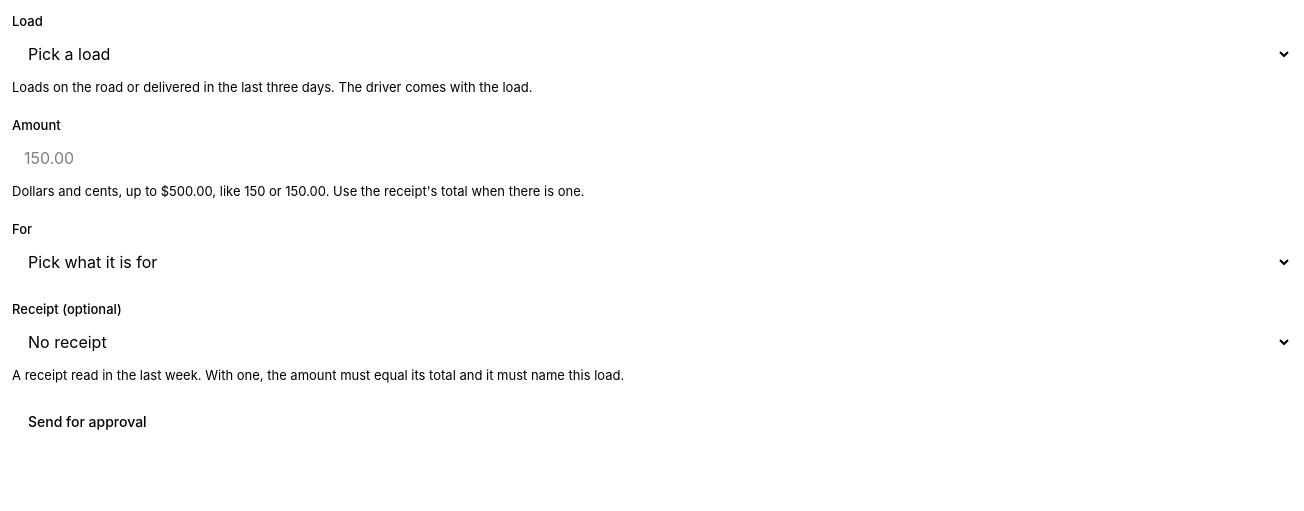
Test: the Request a code form › says the pay rules' refusal in a fixed sentence and stays on the form
Select "PW-L20410, Sam Rivera (PW-D01), on the road" in the dropdown labelled "Load". click: (652, 54)
box: [12,36,1292,72]
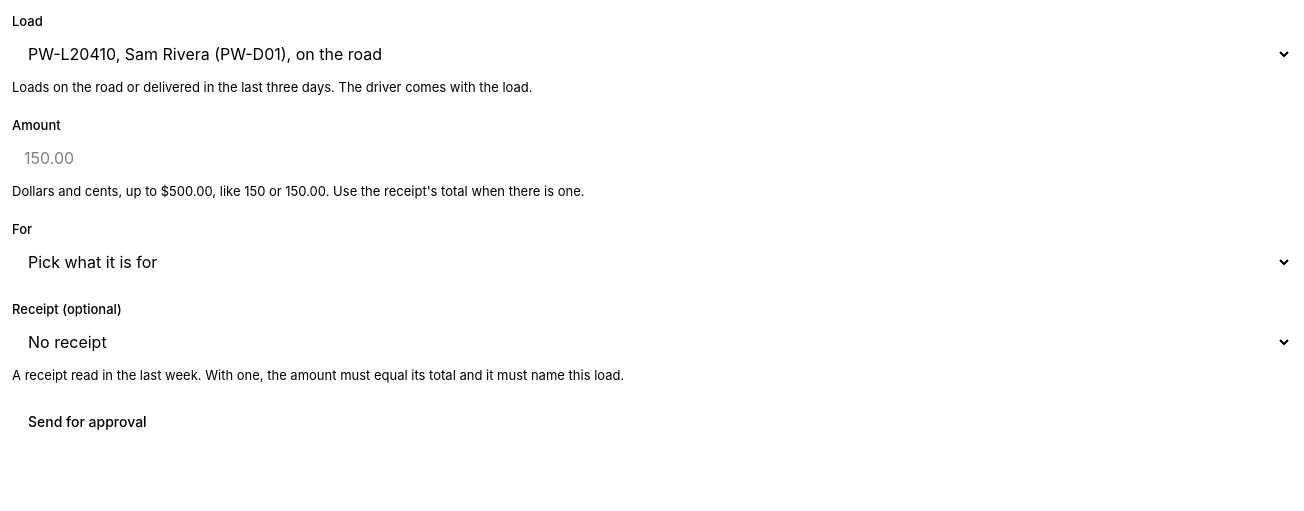
Type "140" into the field labelled "Amount". click: (652, 158)
box: [12,140,1292,176]
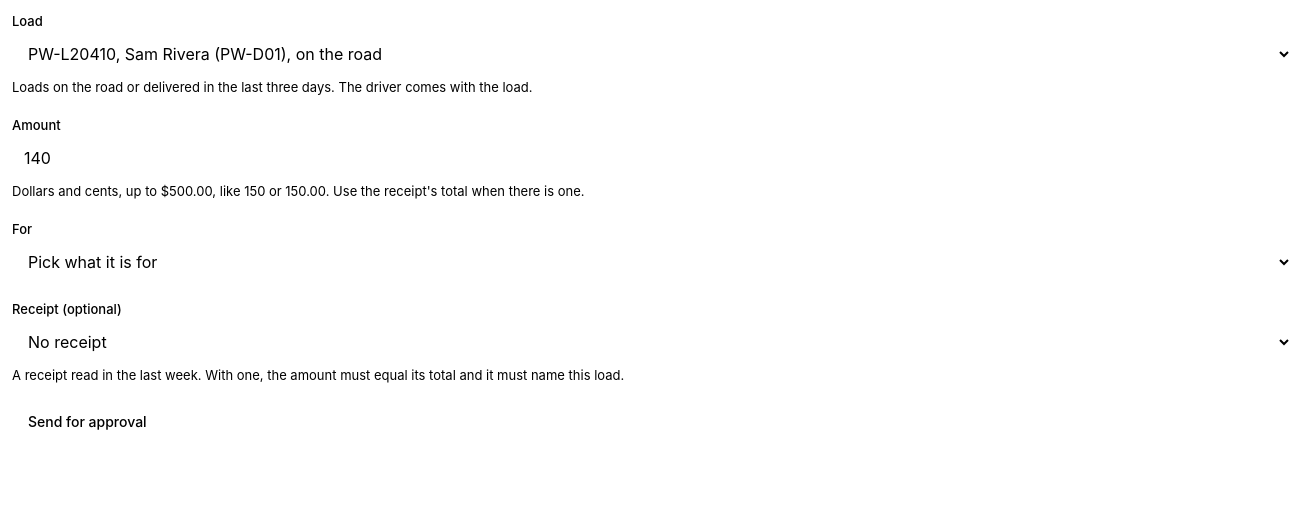
Select "Lumper" in the dropdown labelled "For". click: (652, 262)
box: [12,244,1292,280]
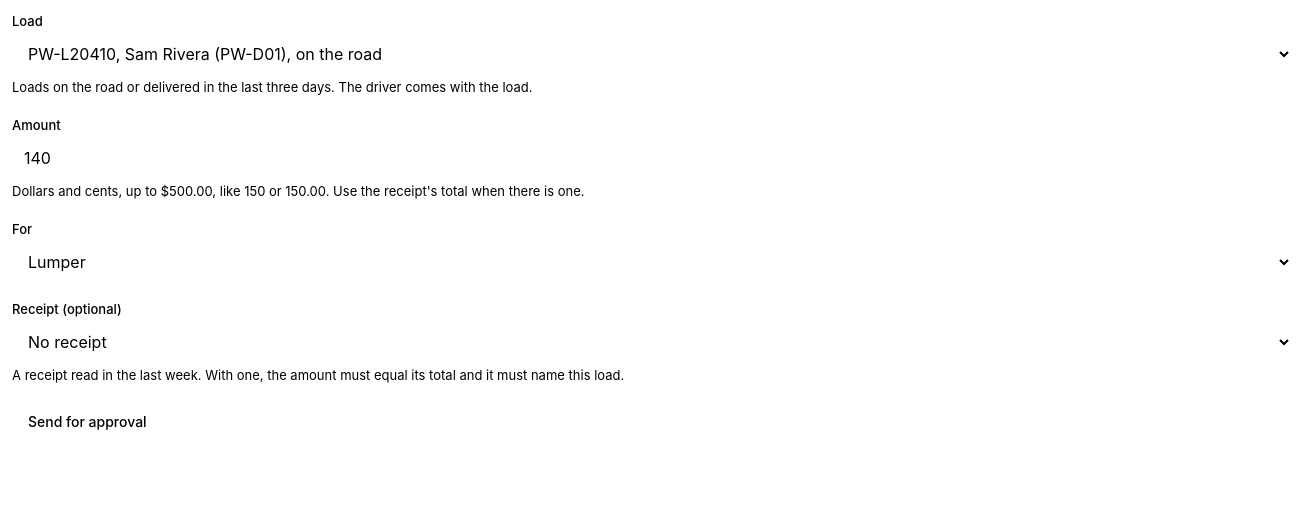
Select "pw-l20410-lumper.webp" in the dropdown labelled "Receipt (optional)". click: (652, 342)
box: [12,324,1292,360]
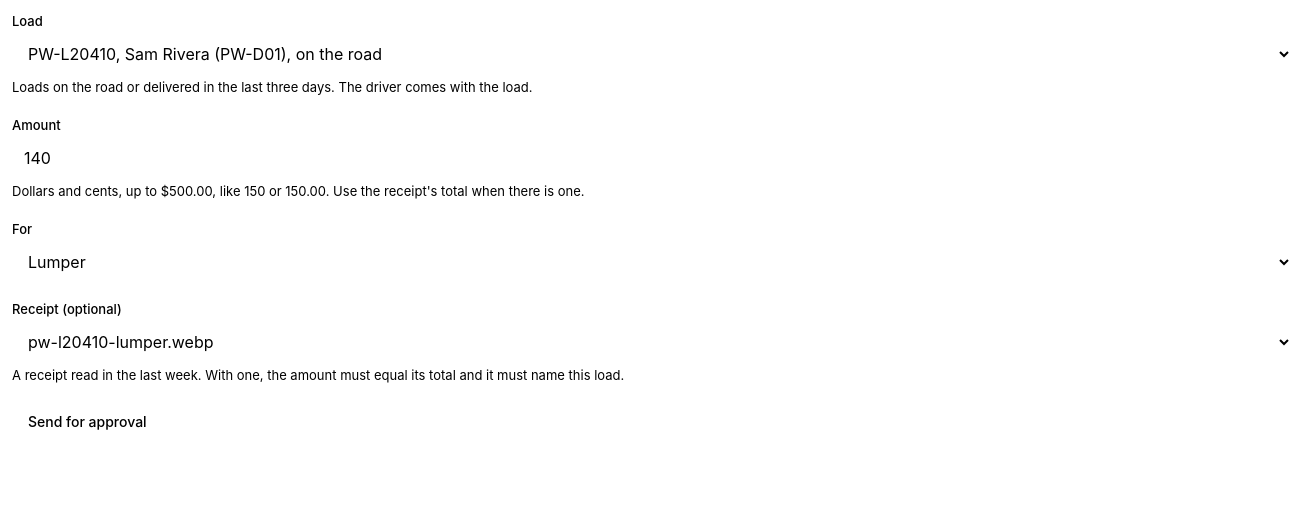
Click the button "Send for approval". click: (87, 422)
box: [12,404,163,440]
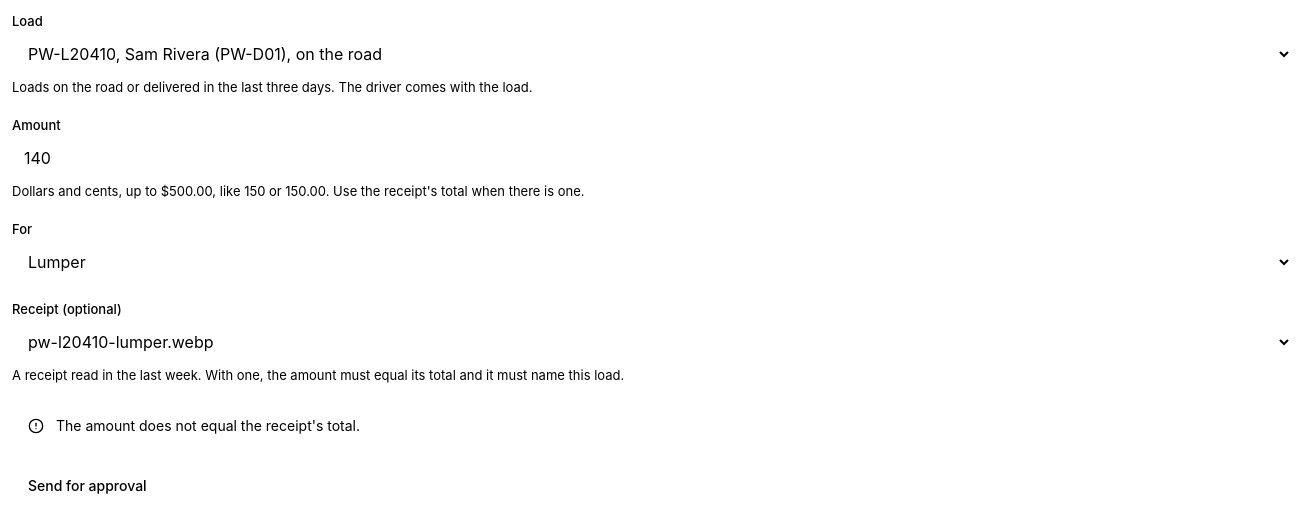
Expected: the message reads "The amount does not equal the receipt's total.", [56,417,360,434]
